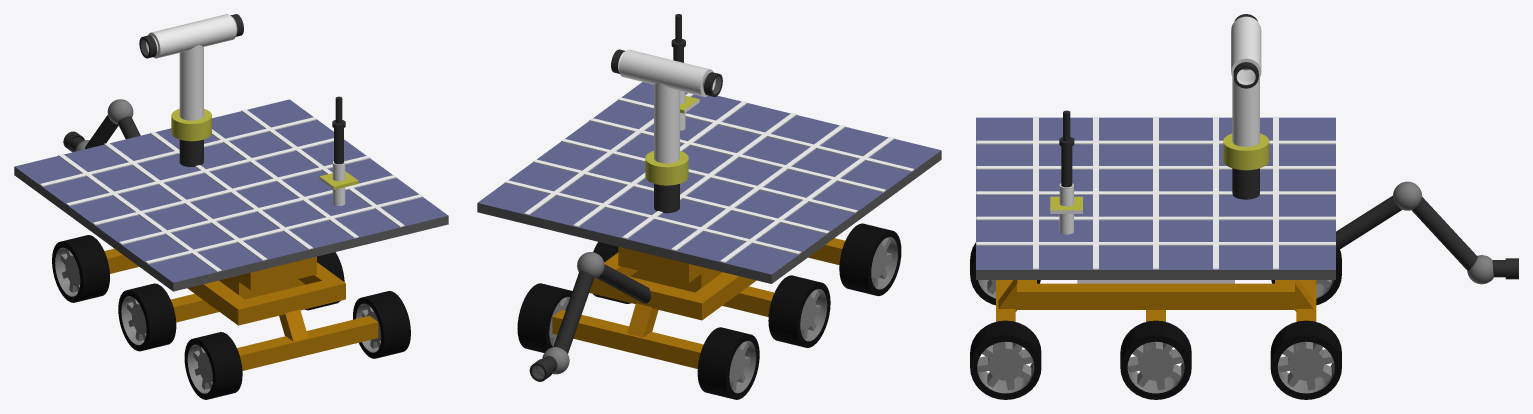
The model's file is space_rover.fbx.
The picture shows the model from 3 angles, left to right: view 1: azimuth 30°, elevation 25°; view 2: azimuth 150°, elevation 25°; view 3: azimuth 270°, elevation 25°; orthographic projection. The views are drawn at different scales.
Parts seen in each view (by area): view 1: 큐브; view 2: 큐브; view 3: 큐브.
Boxes of the visible parts, x1,y1,x2,y2 form: 큐브: [14, 14, 448, 399]; 큐브: [477, 14, 941, 399]; 큐브: [970, 14, 1518, 399].
Bounding box in the file's own units: 1009 × 953 × 1537.
